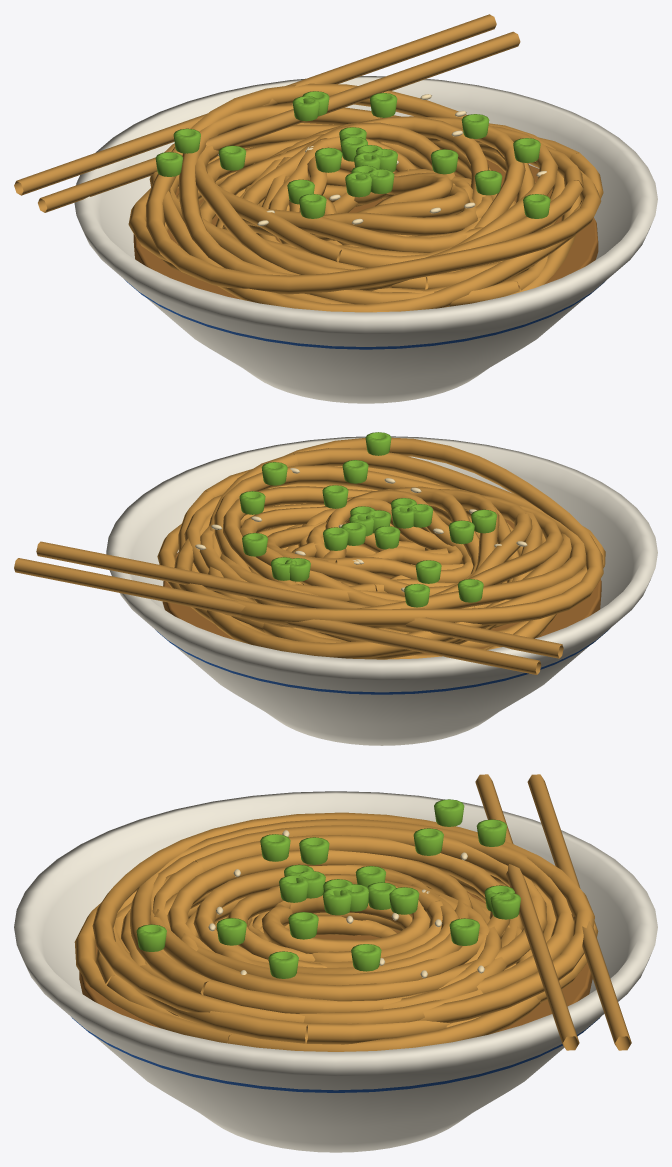
File: hot-dry-noodles.glb
The picture shows the model from 3 angles, top to bottom: view 1: azimuth 30°, elevation 25°; view 2: azimuth 150°, elevation 25°; view 3: azimuth 270°, elevation 25°; orthographic projection. The views are drawn at different scales.
Parts seen in each view (by area): view 1: sesame noodle strand, noodle bowl, resting chopstick, cut spring onion, sauce under noodles, blue bowl band, sesame sprinkle; view 2: sesame noodle strand, noodle bowl, resting chopstick, cut spring onion, sauce under noodles, blue bowl band, sesame sprinkle; view 3: sesame noodle strand, noodle bowl, cut spring onion, resting chopstick, sauce under noodles, blue bowl band, sesame sprinkle.
Part boxes in pixels (box(x1,y1,x2,y2)): sesame noodle strand: box(128, 83, 603, 312); noodle bowl: box(74, 76, 657, 403); resting chopstick: box(14, 14, 520, 212); cut spring onion: box(155, 91, 550, 218); sauce under noodles: box(133, 159, 598, 299); blue bowl band: box(124, 279, 605, 349); sesame sprinkle: box(218, 94, 546, 226); sesame noodle strand: box(157, 437, 605, 659); noodle bowl: box(106, 436, 657, 745); resting chopstick: box(14, 541, 563, 674); cut spring onion: box(239, 432, 496, 607); sauce under noodles: box(162, 518, 601, 654); blue bowl band: box(155, 629, 609, 694); sesame sprinkle: box(195, 468, 527, 591); sesame noodle strand: box(74, 812, 598, 1051); noodle bowl: box(14, 791, 657, 1152); cut spring onion: box(136, 799, 520, 978); resting chopstick: box(475, 774, 631, 1050); sauce under noodles: box(79, 891, 592, 1032); blue bowl band: box(71, 1017, 600, 1092); sesame sprinkle: box(208, 830, 484, 978).
Bounding box in the file's own units: 0.3011 × 0.107 × 0.296.
